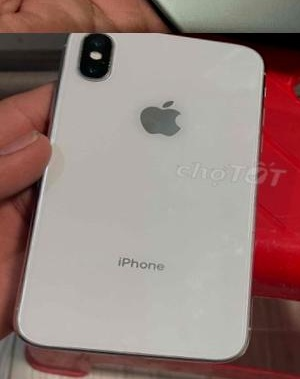scratch: (99, 45, 123, 78), (71, 44, 93, 66)
